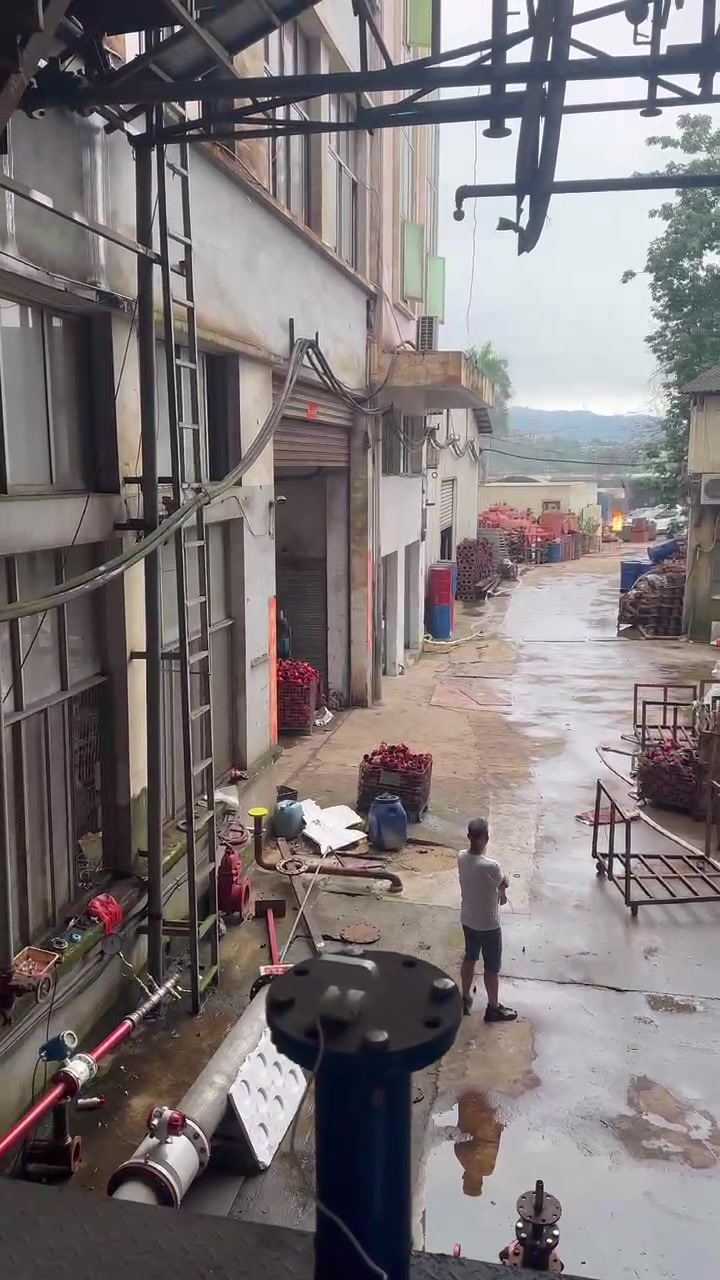fire: (612, 510, 621, 532)
